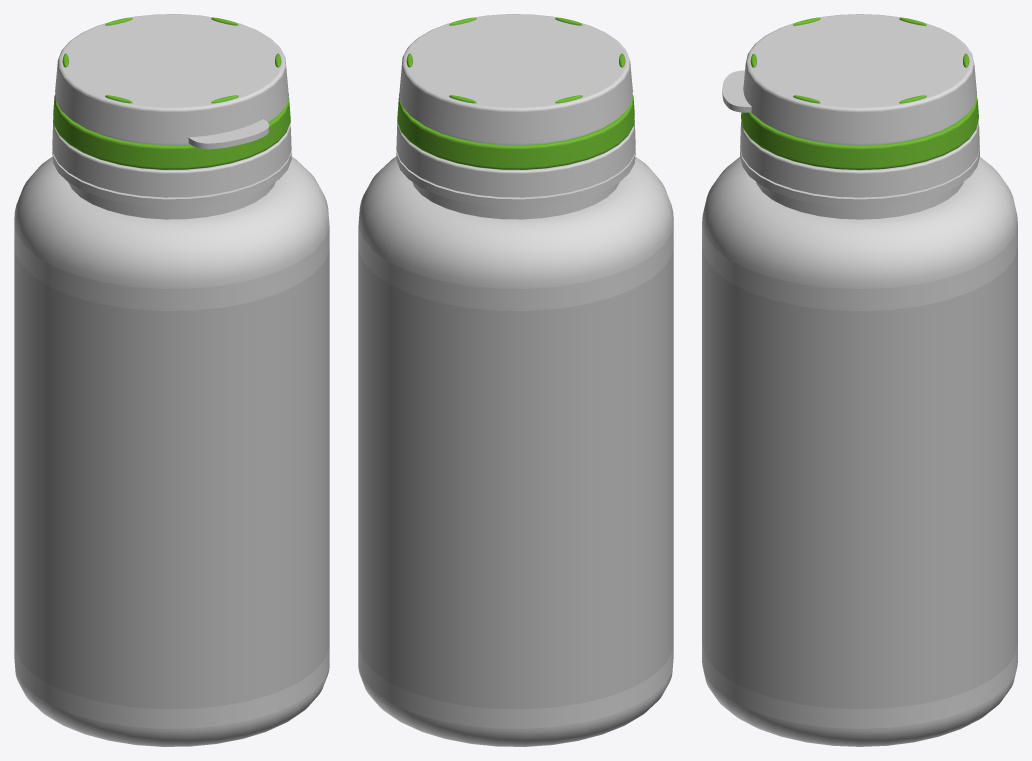
Rendered from prd.obj.
3 views of the same model, side by side, from view 1: azimuth 30°, elevation 25°; view 2: azimuth 150°, elevation 25°; view 3: azimuth 270°, elevation 25° (orthographic).
Parts seen in each view (by area): view 1: _____; view 2: _____; view 3: _____.
Boxes of the visible parts, x1=… form: _____: x1=14, y1=14, x2=329, y2=746; _____: x1=358, y1=14, x2=673, y2=746; _____: x1=702, y1=14, x2=1017, y2=746.
Bounding box in the file's own units: 50 × 110 × 50.
